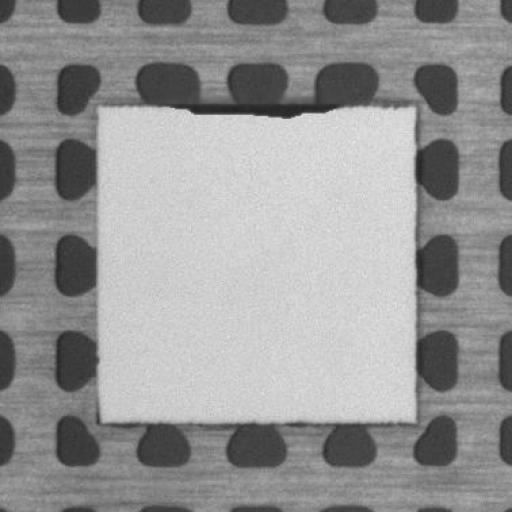DIE_BROKEN: (164, 99, 344, 120)
